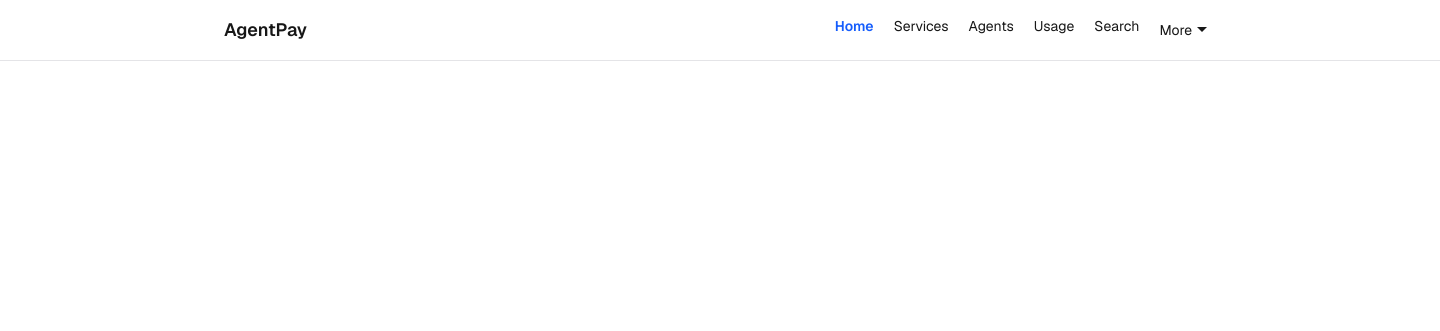
Test: Header › shows More button that opens secondary menu
Click the button "More".
click(1184, 30)  # box [1151,16,1216,44]
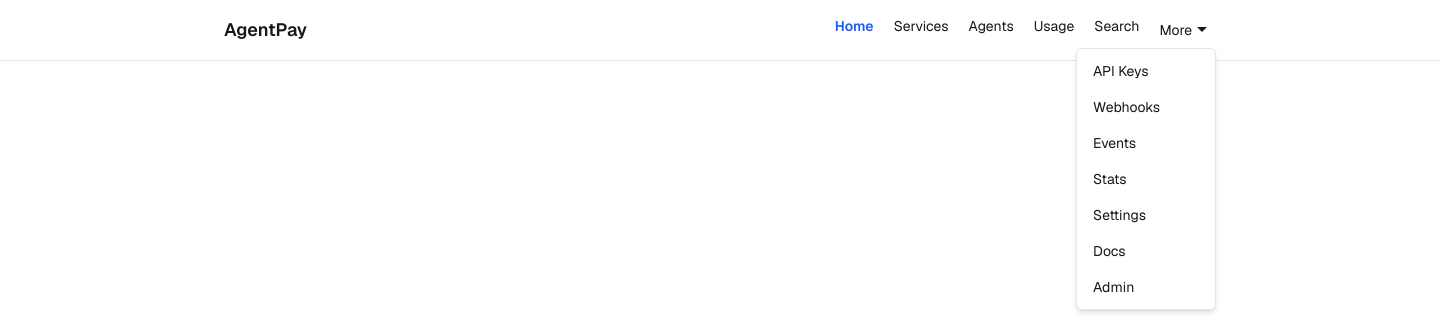
Check: the menu is shown, box [1076,48,1216,310]
